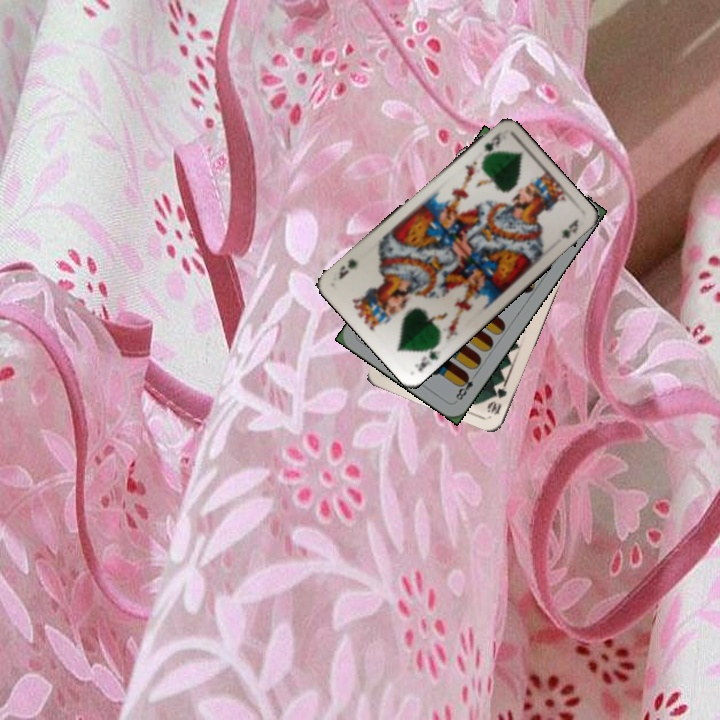E8: (452, 369, 480, 403)
G10: (484, 377, 509, 418)
GK: (410, 340, 444, 374), (480, 128, 504, 154)
